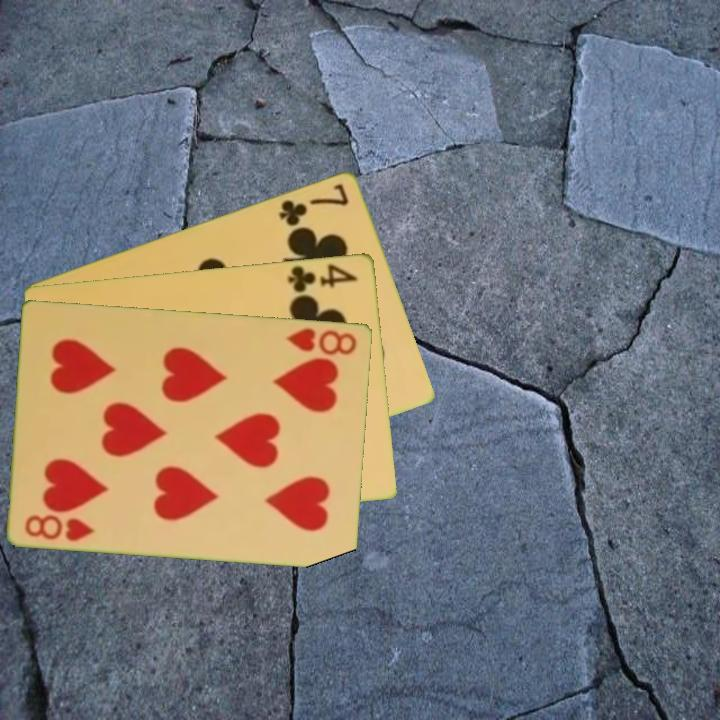4c: (285, 260, 361, 295)
7c: (275, 179, 352, 229)
8h: (283, 324, 360, 358), (22, 510, 99, 544)
